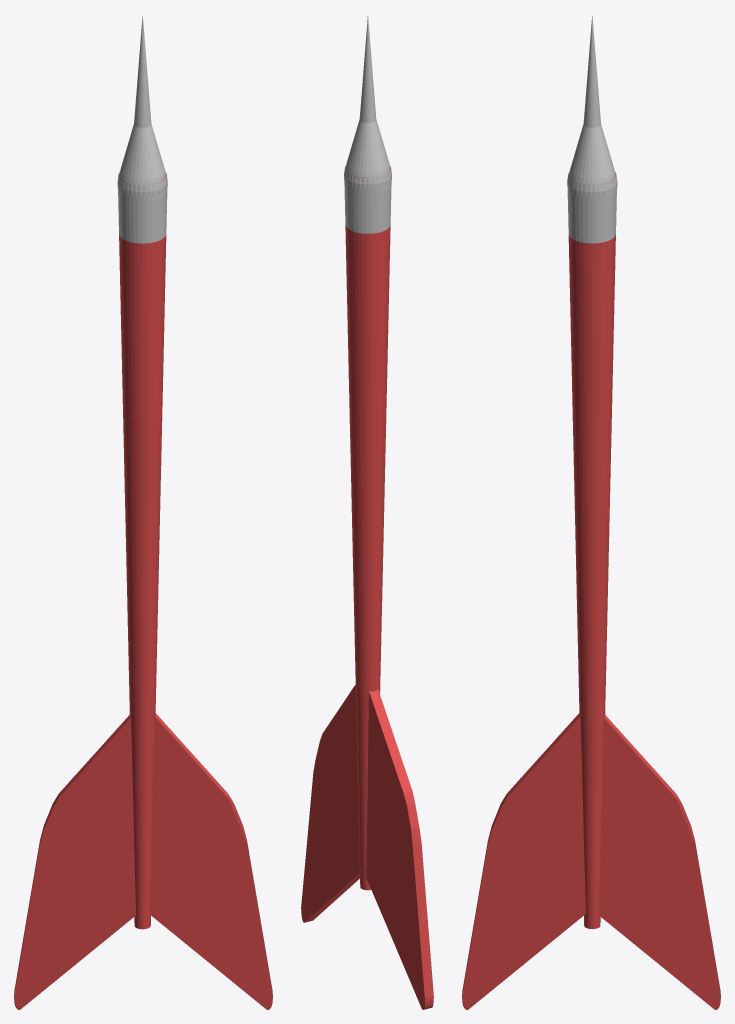
File: dart.fbx
3 renders of one model, left to right at view 1: azimuth 90°, elevation 25°; view 2: azimuth 210°, elevation 25°; view 3: azimuth 270°, elevation 25°, orthographic. The views are drawn at different scales.
Visible parts, largest first — view 1: Body, Feather02, Feather01; view 2: Body, Feather01, Feather02; view 3: Body, Feather02, Feather01.
Boxes of the visible parts, box(x1,y1,x2,y2) form: Body: box(117, 16, 167, 929); Feather02: box(149, 713, 272, 1009); Feather01: box(14, 715, 136, 1009); Body: box(344, 16, 391, 890); Feather01: box(366, 689, 433, 1009); Feather02: box(301, 685, 359, 922); Body: box(567, 16, 617, 929); Feather02: box(462, 713, 585, 1009); Feather01: box(598, 715, 720, 1009).
Size of the model in its own units: 230 by 5037 by 1189.
